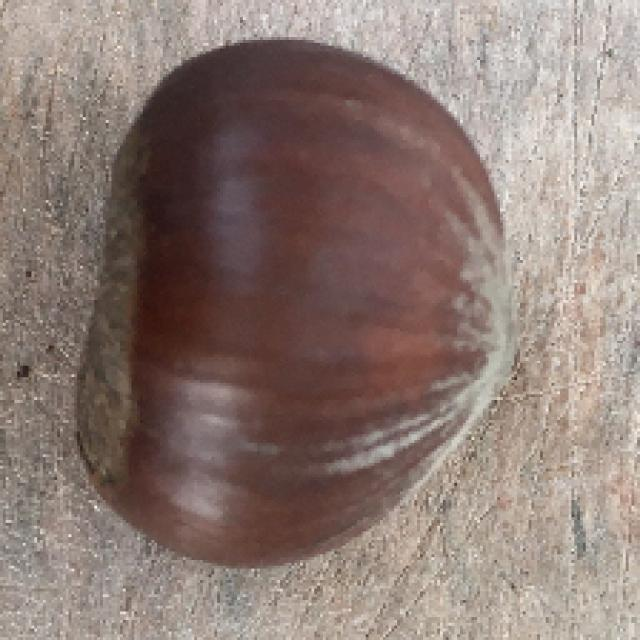damagedHazelnut: (73, 34, 556, 569)
